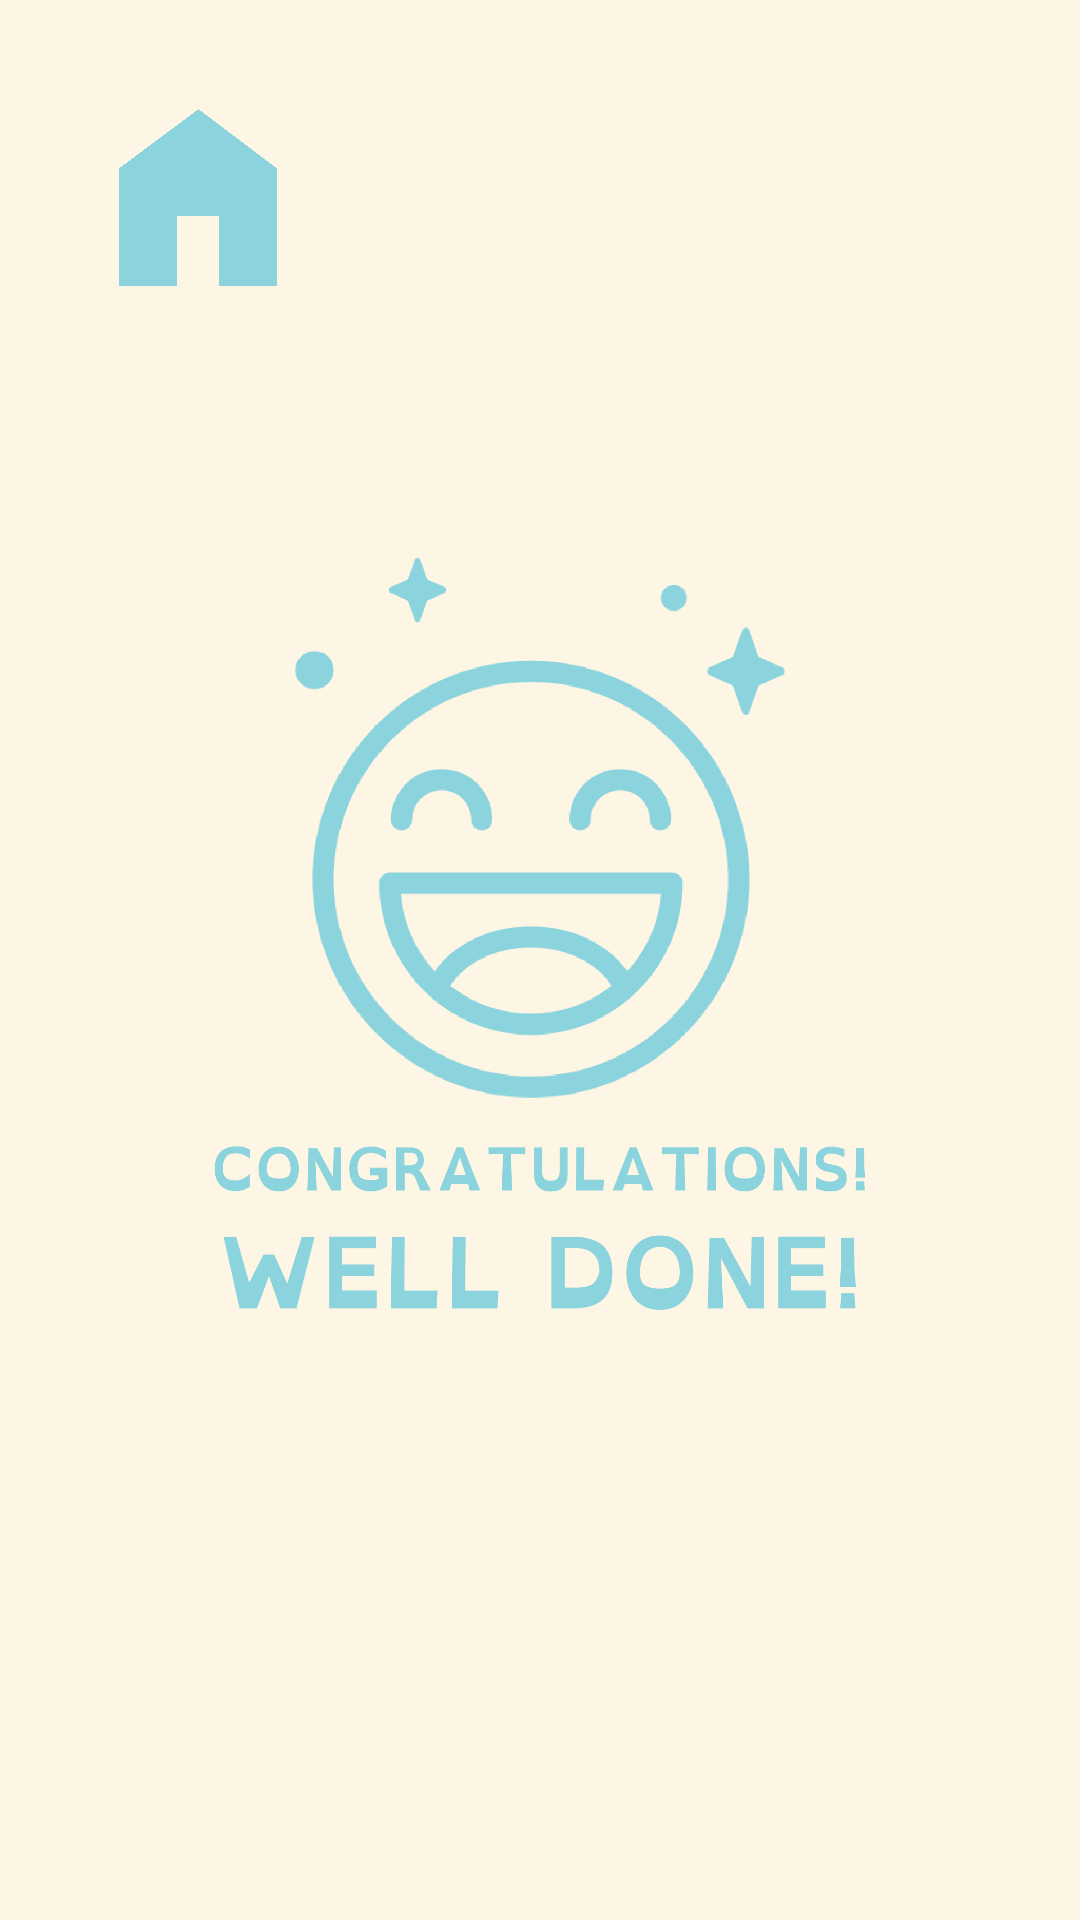

Icons on this 1080×1920 Android screen, each with its box as (x1, y1, x2, y2):
home: (119, 109, 277, 286)
